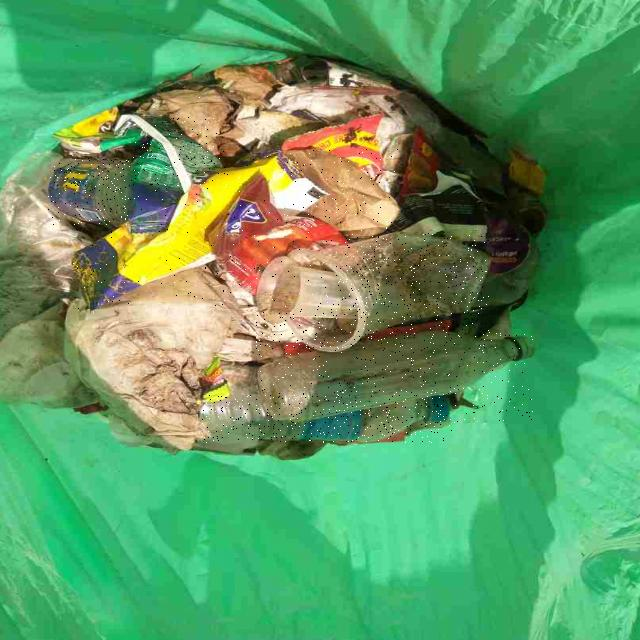paper: (73, 155, 318, 309), (284, 148, 400, 236), (158, 87, 232, 154)
plastic: (257, 233, 489, 350), (258, 331, 534, 423), (202, 395, 452, 443), (49, 159, 130, 226)
wrapper: (210, 175, 347, 295), (152, 118, 220, 180), (133, 138, 181, 188)
